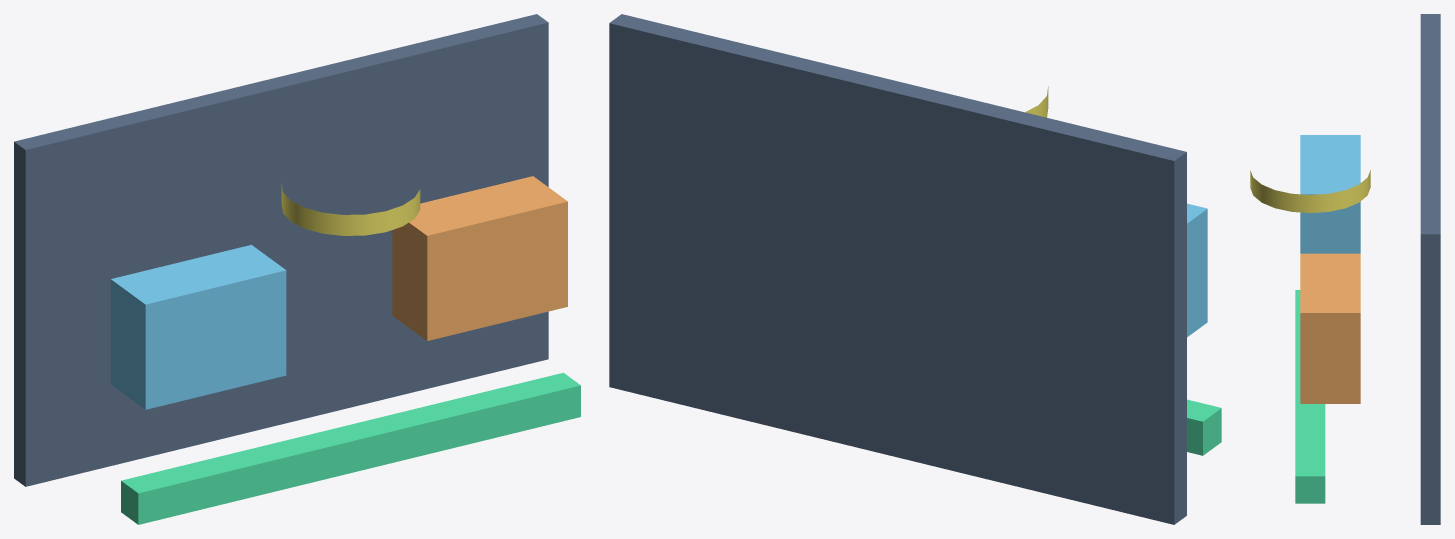
The model's file is software_engineering.glb.
3 renders of one model, left to right at view 1: azimuth 30°, elevation 25°; view 2: azimuth 150°, elevation 25°; view 3: azimuth 270°, elevation 25°, orthographic. The views are drawn at different scales.
Parts seen in each view (by area): view 1: AgileSprintBoard, UMLClassBox1, UMLClassBox2, GanttTimelineBar, QAQualityShield; view 2: AgileSprintBoard, UMLClassBox1, GanttTimelineBar; view 3: AgileSprintBoard, UMLClassBox2, UMLClassBox1, GanttTimelineBar, QAQualityShield.
Boxes of the visible parts, x1=… form: AgileSprintBoard: x1=14, y1=14, x2=548, y2=486; UMLClassBox1: x1=110, y1=245, x2=286, y2=409; UMLClassBox2: x1=392, y1=176, x2=567, y2=340; GanttTimelineBar: x1=121, y1=372, x2=580, y2=524; QAQualityShield: x1=281, y1=184, x2=420, y2=235; AgileSprintBoard: x1=609, y1=14, x2=1186, y2=524; UMLClassBox1: x1=1187, y1=203, x2=1207, y2=337; GanttTimelineBar: x1=1187, y1=399, x2=1221, y2=455; AgileSprintBoard: x1=1420, y1=14, x2=1440, y2=524; UMLClassBox2: x1=1300, y1=253, x2=1360, y2=403; UMLClassBox1: x1=1300, y1=135, x2=1360, y2=253; GanttTimelineBar: x1=1295, y1=290, x2=1325, y2=503; QAQualityShield: x1=1250, y1=170, x2=1370, y2=212.
Size of the model in its own units: 2.6 by 1.6 by 0.95.
